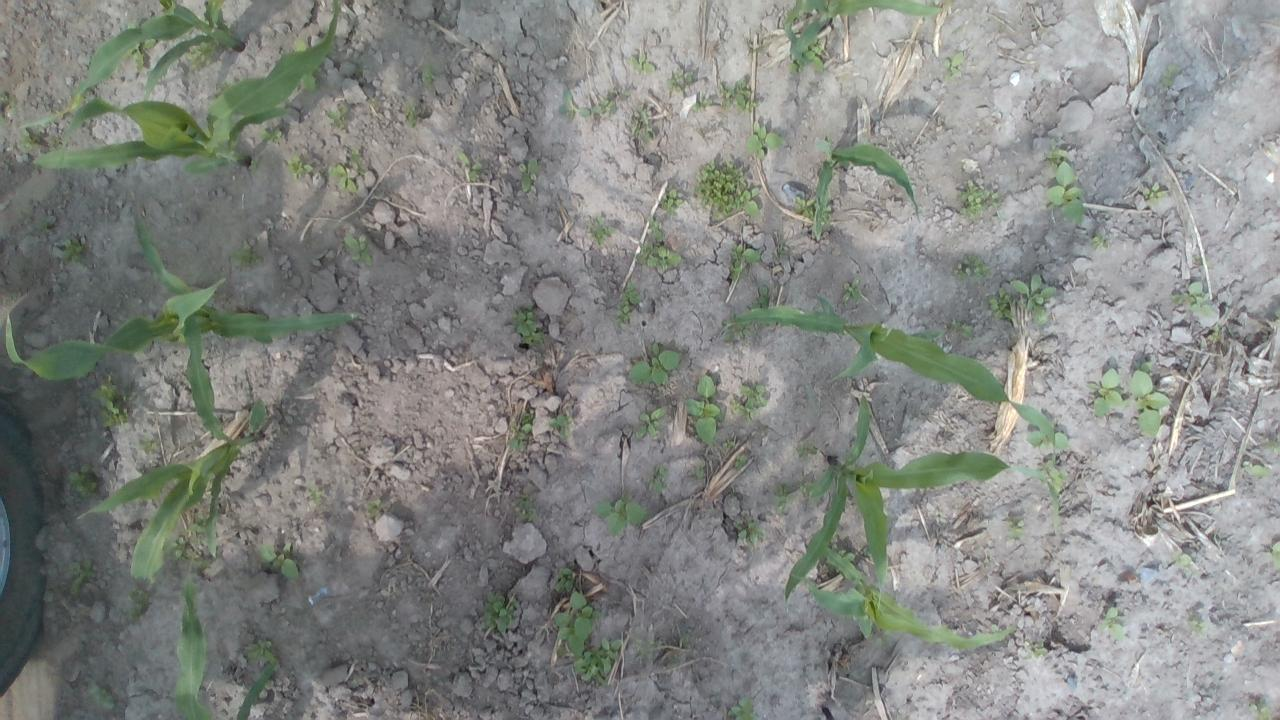Maize: (5, 209, 358, 382), (724, 294, 1058, 470), (784, 393, 1060, 602), (29, 0, 340, 177), (76, 319, 267, 580), (18, 0, 246, 130), (788, 545, 1022, 650), (176, 556, 278, 720), (811, 134, 920, 242), (781, 0, 941, 70)
Weeds: (694, 161, 760, 217), (638, 622, 704, 674), (1130, 362, 1170, 439), (554, 592, 598, 656), (684, 375, 720, 445), (572, 638, 622, 688), (1046, 162, 1084, 226), (1009, 275, 1056, 325), (628, 343, 680, 386), (596, 492, 646, 534), (91, 376, 130, 426), (1086, 368, 1124, 415), (958, 180, 1001, 220), (508, 299, 542, 346), (1171, 281, 1213, 317), (258, 542, 298, 579), (718, 78, 759, 113), (789, 36, 828, 72), (483, 592, 518, 632), (1026, 420, 1069, 452), (746, 121, 782, 159), (636, 242, 680, 270), (616, 281, 642, 324), (730, 244, 761, 280), (124, 39, 156, 71), (68, 465, 98, 498), (794, 197, 831, 223), (593, 89, 628, 116), (558, 93, 590, 122), (508, 412, 532, 450), (1100, 607, 1126, 642), (721, 314, 751, 344), (635, 408, 664, 439), (187, 42, 218, 71), (344, 234, 372, 266), (69, 560, 93, 596), (586, 216, 615, 245), (954, 256, 989, 280), (630, 109, 654, 144), (230, 246, 264, 270), (328, 165, 357, 192), (1043, 462, 1068, 493), (988, 288, 1012, 320), (123, 588, 148, 618), (457, 152, 482, 182), (244, 640, 275, 664), (732, 522, 767, 543), (738, 384, 767, 409), (666, 68, 693, 93), (89, 684, 115, 709), (548, 414, 574, 439), (728, 697, 756, 720), (286, 155, 312, 179), (518, 158, 536, 192), (516, 494, 537, 523), (1046, 138, 1067, 166), (942, 52, 964, 78), (659, 189, 682, 213), (61, 238, 84, 262), (629, 52, 654, 74), (1143, 182, 1168, 204), (646, 466, 666, 493), (17, 126, 40, 149), (1249, 696, 1270, 720), (842, 278, 861, 302), (774, 485, 790, 513), (327, 105, 348, 126), (1265, 540, 1280, 569), (948, 320, 972, 338), (556, 568, 574, 592), (1242, 461, 1268, 477), (646, 215, 662, 240), (1162, 64, 1180, 86), (170, 536, 188, 558), (136, 437, 159, 454), (257, 129, 283, 144), (404, 101, 419, 127), (48, 130, 67, 150), (1026, 641, 1048, 658), (833, 545, 855, 562), (1005, 520, 1024, 538), (188, 514, 206, 532), (775, 240, 791, 260), (0, 92, 10, 122), (732, 402, 753, 416), (308, 487, 324, 505), (366, 500, 382, 518), (796, 443, 818, 456), (423, 64, 436, 86), (692, 98, 713, 111), (1190, 620, 1208, 634), (756, 286, 768, 306), (1174, 551, 1190, 566), (302, 74, 316, 91), (1092, 237, 1109, 249), (1208, 324, 1220, 340), (696, 460, 706, 479), (800, 482, 814, 495), (734, 455, 747, 469), (754, 599, 766, 614), (350, 148, 360, 163), (819, 562, 830, 574), (295, 41, 307, 52), (934, 508, 941, 524), (990, 624, 1000, 634), (722, 442, 734, 447), (126, 24, 136, 30), (836, 569, 839, 573)
